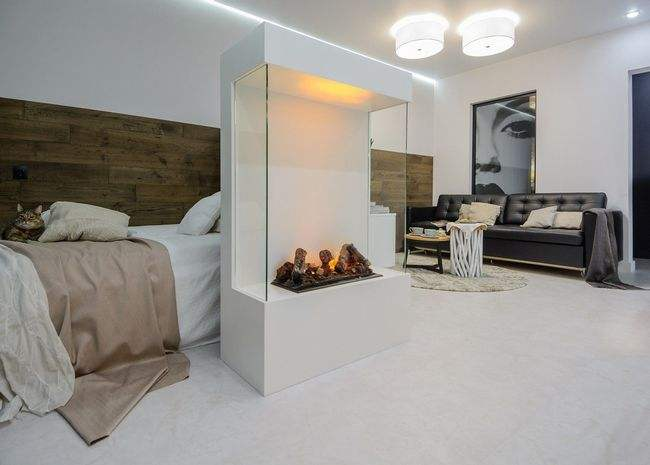床: (1, 222, 229, 414)
枕头: (26, 199, 132, 242), (175, 190, 228, 234), (519, 206, 583, 233), (456, 200, 501, 228)
灯: (452, 7, 524, 60), (383, 11, 454, 64), (618, 7, 640, 24)
